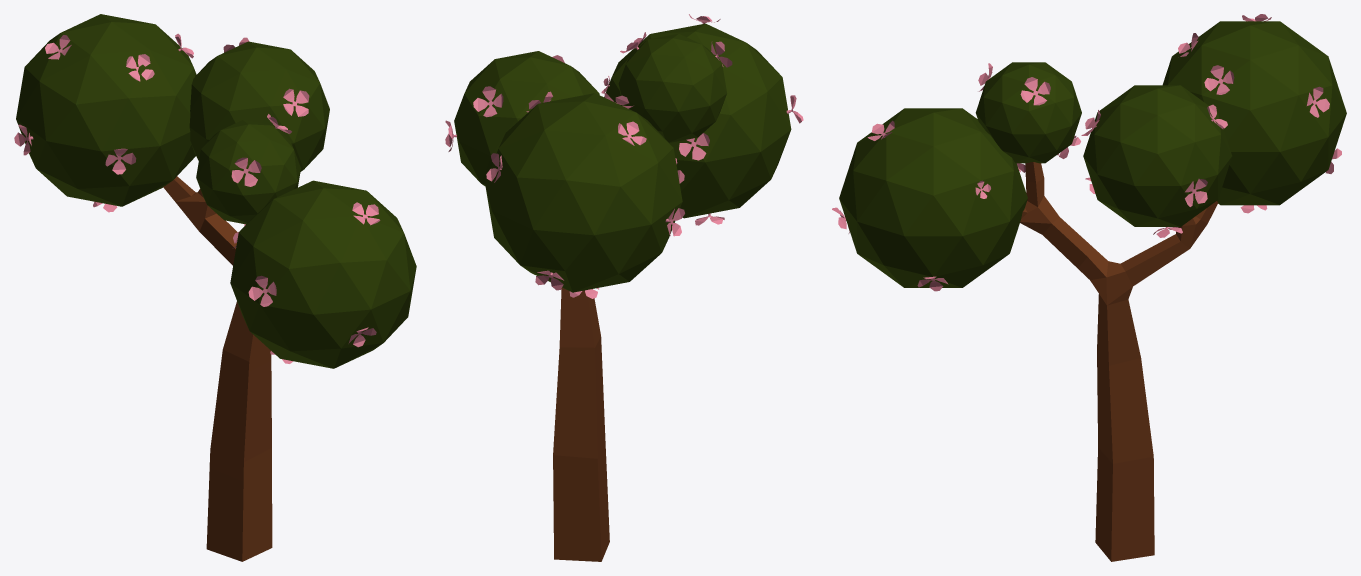
The model's file is TEX_apple_tree_bloom.fbx.
3 views of the same model, side by side, from view 1: azimuth 30°, elevation 25°; view 2: azimuth 150°, elevation 25°; view 3: azimuth 270°, elevation 25° (orthographic). The views are drawn at different scales.
Visible parts, largest first — view 1: F_apple_tree_bloom; view 2: F_apple_tree_bloom; view 3: F_apple_tree_bloom.
Boxes of the visible parts, <box> form: F_apple_tree_bloom: <box>14,14,416,561</box>; F_apple_tree_bloom: <box>445,14,803,561</box>; F_apple_tree_bloom: <box>832,14,1346,561</box>.
Bounding box in the file's own units: 136 × 252 × 239.
Materials: 1 (1 with a texture image).
